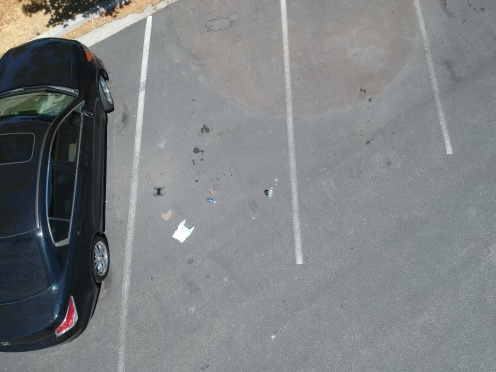bottle: (261, 183, 276, 200)
can: (203, 194, 216, 206)
plastic bag: (167, 215, 196, 243)
